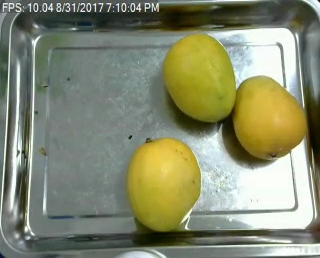Mango: (123, 137, 208, 239), (157, 31, 239, 126), (229, 71, 311, 165)
